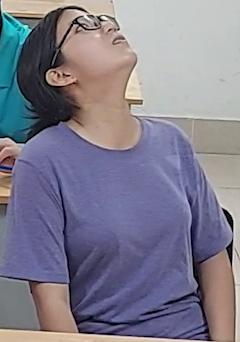Turning_Around: (4, 2, 240, 342)
